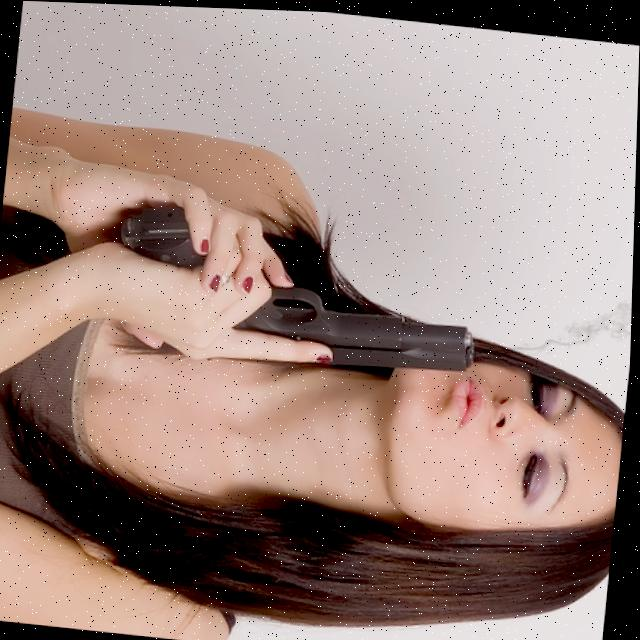pistol: (227, 279, 481, 379)
